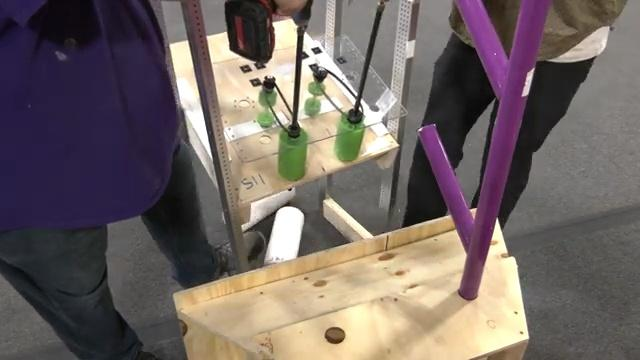CORAL: (262, 204, 305, 266)
